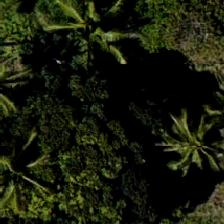Kelapa_Sawit: (152, 90, 223, 181), (51, 0, 141, 69)
